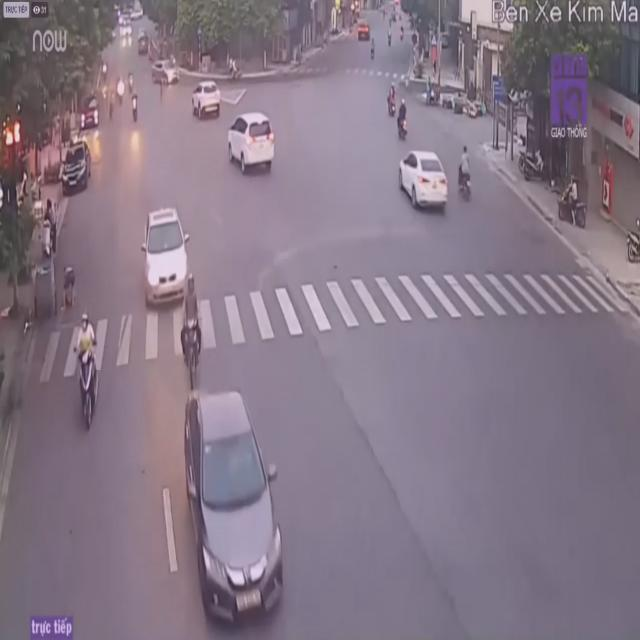car: (184, 391, 286, 636), (139, 205, 196, 313), (224, 114, 275, 182), (399, 152, 451, 216), (59, 138, 92, 198), (191, 80, 222, 124)
motorbike: (68, 312, 101, 440), (178, 275, 205, 384), (456, 146, 473, 201)
